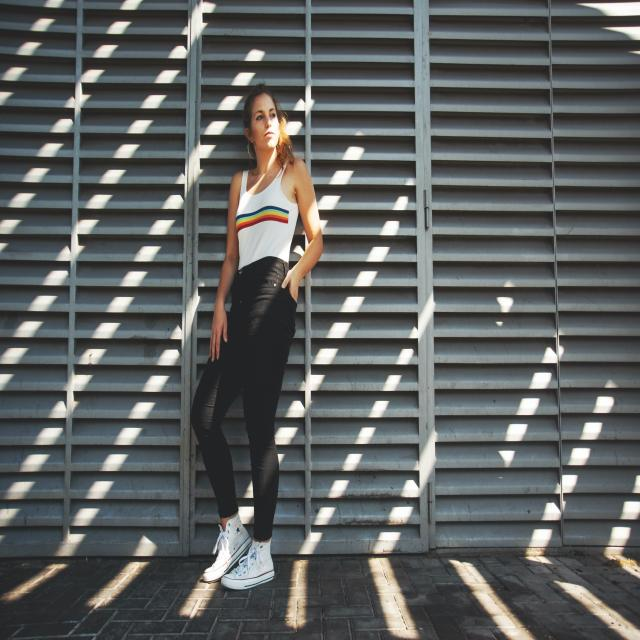standing: (194, 86, 327, 590)
